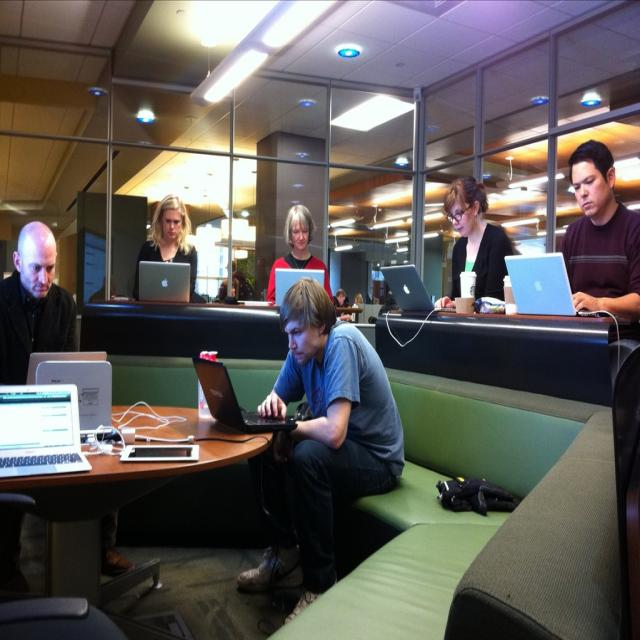desk: (0, 402, 271, 607)
laptop: (0, 386, 92, 479), (192, 356, 299, 432), (505, 252, 615, 320), (27, 354, 113, 436), (379, 264, 455, 314), (138, 262, 190, 303)
person: (234, 279, 405, 614), (560, 139, 640, 321), (1, 221, 76, 386), (441, 177, 520, 302), (132, 194, 210, 305), (266, 204, 328, 305), (333, 288, 363, 322)
